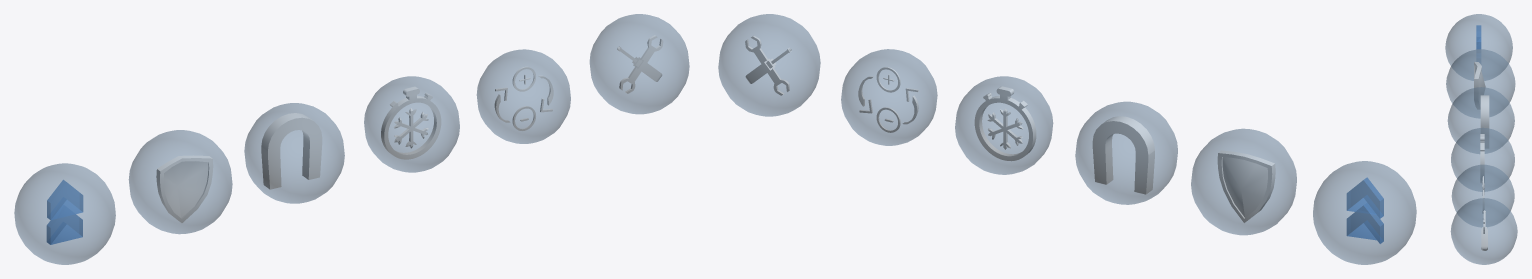
File: Powerupss2.0.fbx
3 views of the same model, side by side, from view 1: azimuth 30°, elevation 25°; view 2: azimuth 150°, elevation 25°; view 3: azimuth 270°, elevation 25° (orthographic). The views are drawn at different scales.
Visible parts, largest first — view 1: Sphere, Cube.002, Magnet, Sphere.003, Sphere.001, Sphere.002, BezierCurve, Cube, Cube.001, BezierCircle, Cube.008, Cube.003; view 2: Sphere, Cube.002, Magnet, Sphere.003, Sphere.001, Sphere.002, BezierCurve, Cube, Cube.001, BezierCircle, Cube.008, Cube.003; view 3: Sphere.003, Sphere, Cube.002, Magnet, Sphere.001, Sphere.002, Cube, BezierCurve, BezierCircle, Cube.008, Cube.001.
Part boxes in pixels (bbox=[...]): Sphere: bbox=[128, 130, 232, 234]; Cube.002: bbox=[14, 163, 115, 264]; Magnet: bbox=[244, 103, 344, 203]; Sphere.003: bbox=[589, 14, 689, 114]; Sphere.001: bbox=[364, 76, 459, 172]; Sphere.002: bbox=[476, 49, 570, 143]; BezierCurve: bbox=[156, 155, 213, 222]; Cube: bbox=[261, 113, 322, 189]; Cube.001: bbox=[46, 180, 83, 244]; BezierCircle: bbox=[381, 86, 441, 159]; Cube.008: bbox=[617, 35, 663, 93]; Cube.003: bbox=[394, 108, 428, 148]; Sphere: bbox=[1191, 128, 1296, 235]; Cube.002: bbox=[1313, 161, 1416, 264]; Magnet: bbox=[1075, 101, 1177, 204]; Sphere.003: bbox=[718, 14, 820, 116]; Sphere.001: bbox=[955, 76, 1053, 174]; Sphere.002: bbox=[841, 49, 937, 145]; BezierCurve: bbox=[1217, 150, 1275, 222]; Cube: bbox=[1092, 116, 1154, 194]; Cube.001: bbox=[1346, 177, 1383, 243]; BezierCircle: bbox=[974, 86, 1036, 160]; Cube.008: bbox=[745, 36, 791, 95]; Cube.003: bbox=[987, 108, 1022, 149]; Sphere.003: bbox=[1450, 198, 1517, 264]; Sphere: bbox=[1446, 49, 1515, 118]; Cube.002: bbox=[1445, 14, 1512, 80]; Magnet: bbox=[1447, 87, 1514, 153]; Sphere.001: bbox=[1451, 127, 1514, 191]; Sphere.002: bbox=[1451, 164, 1514, 227]; Cube: bbox=[1480, 95, 1489, 148]; BezierCurve: bbox=[1474, 62, 1485, 109]; BezierCircle: bbox=[1480, 134, 1484, 182]; Cube.008: bbox=[1481, 210, 1487, 250]; Cube.001: bbox=[1476, 25, 1481, 49].
Bounding box in the file's own units: 1621 × 227 × 229.
